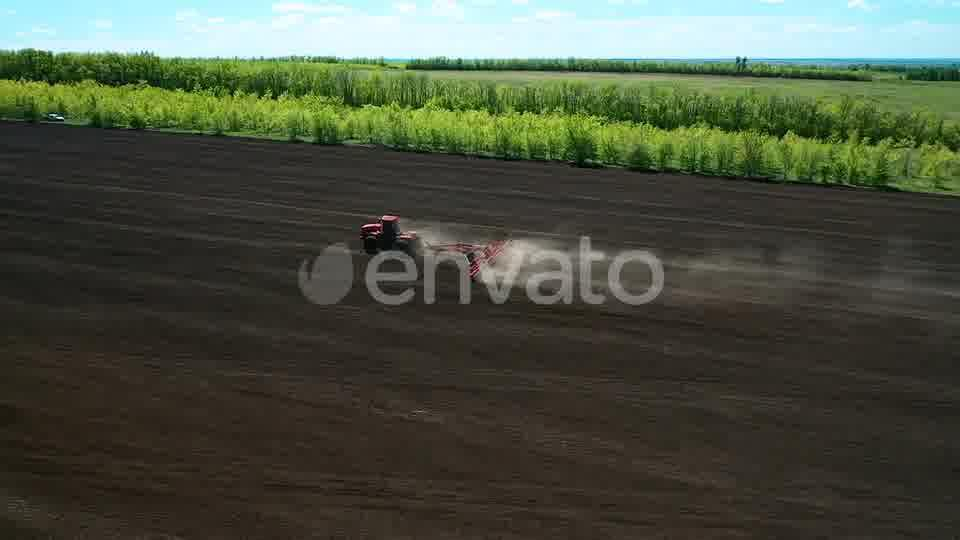tractor: (358, 212, 423, 258)
